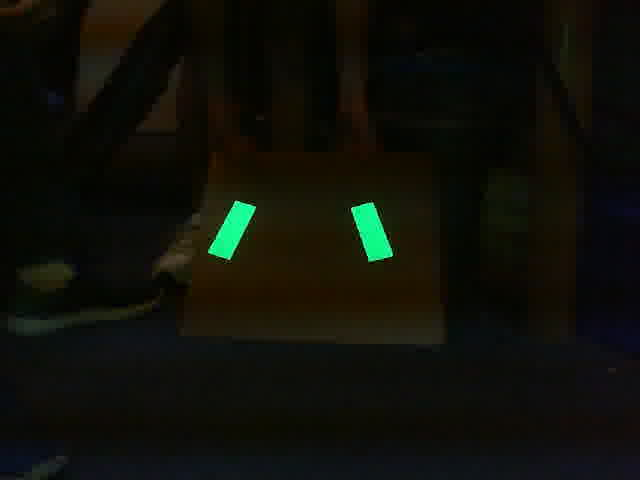target: (207, 199, 397, 270)
